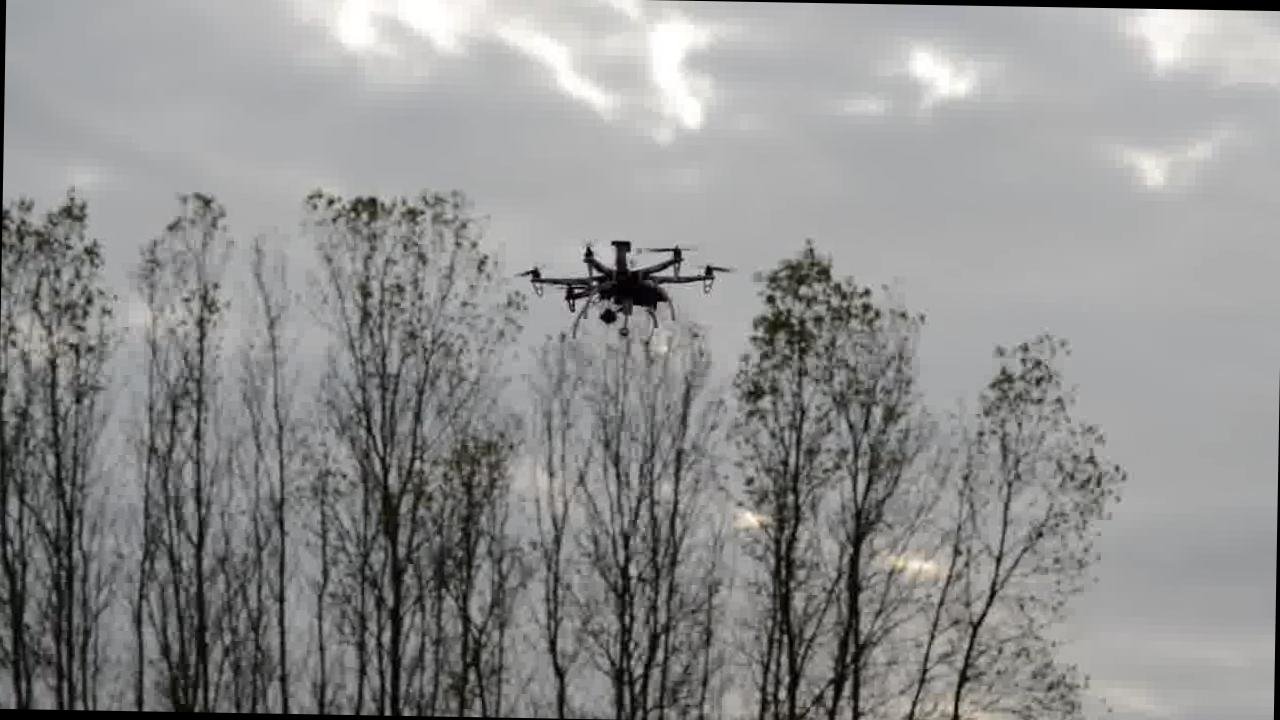drone: (514, 232, 736, 334)
